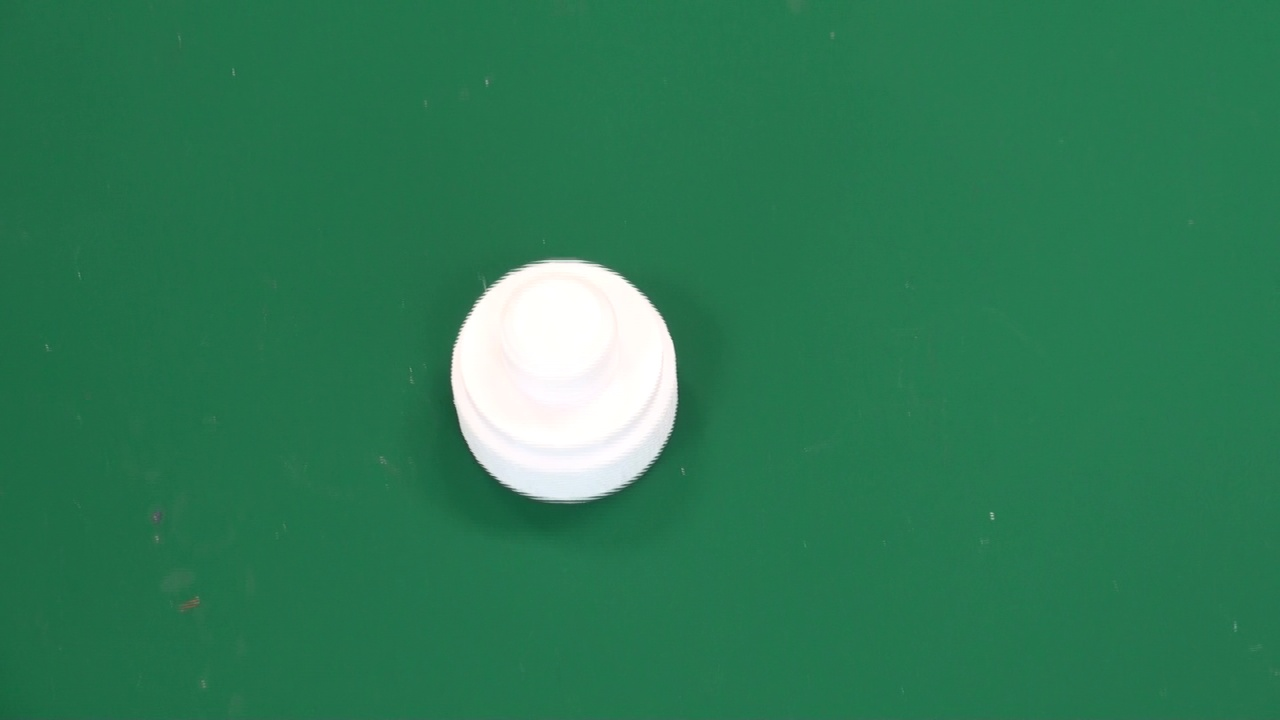breather_plug: (449, 259, 678, 503)
